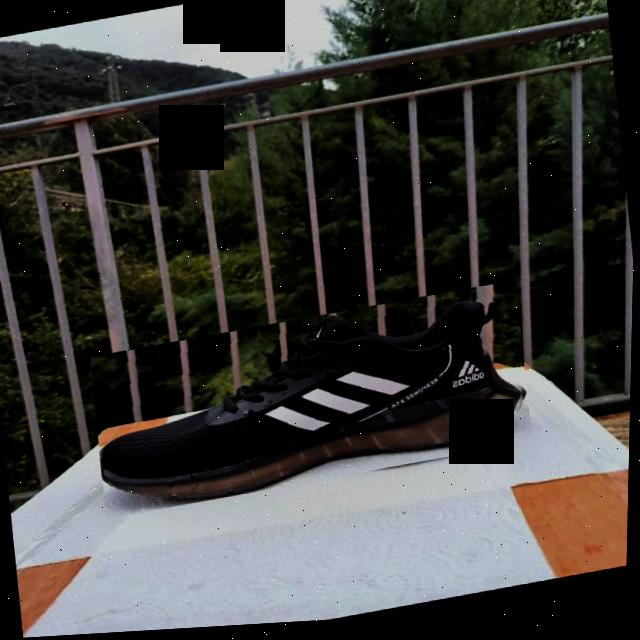shoe: (88, 285, 537, 520)
